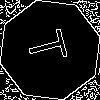T: (25, 25, 77, 66)
